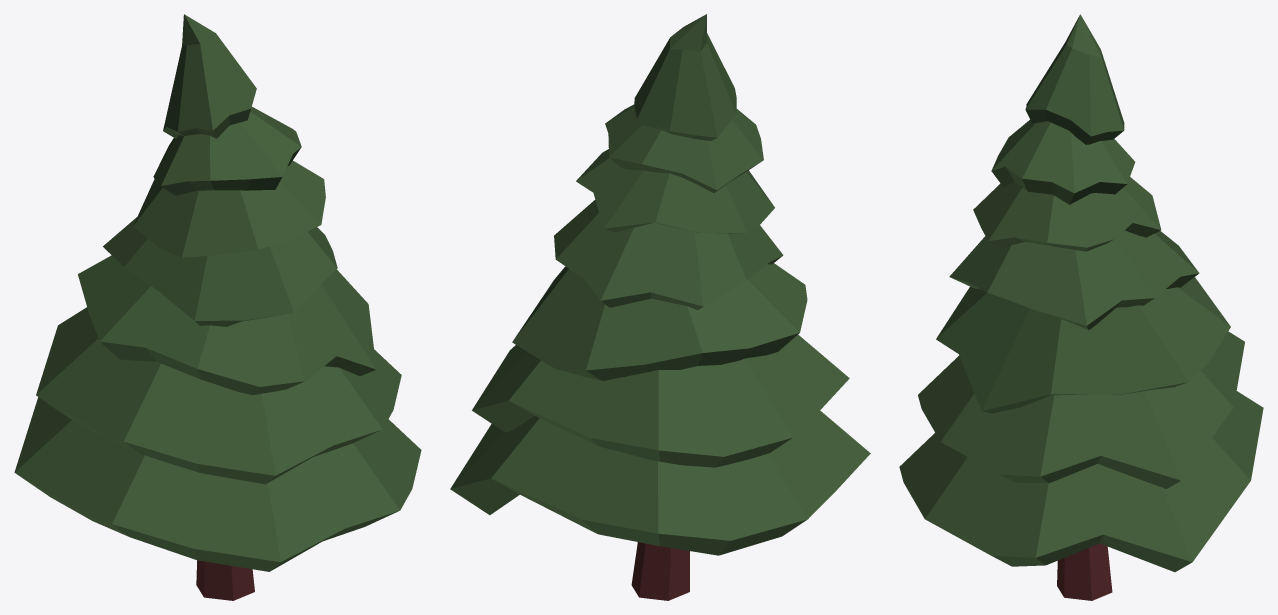
Rendered from ecosystem.fbx_Tree4.fbx.
3 views of the same model, side by side, from view 1: azimuth 30°, elevation 25°; view 2: azimuth 150°, elevation 25°; view 3: azimuth 270°, elevation 25° (orthographic). The views are drawn at different scales.
Parts seen in each view (by area): view 1: Cone.003, Cylinder.003; view 2: Cone.003, Cylinder.003; view 3: Cone.003, Cylinder.003.
Part boxes in pixels (x1,y1,x2,y2): Cone.003: (14,14,421,571); Cylinder.003: (196,560,254,600); Cone.003: (450,14,870,555); Cylinder.003: (631,542,689,600); Cone.003: (899,14,1263,572); Cylinder.003: (1057,543,1112,600).
Bounding box in the file's own units: 398 × 638 × 380.
